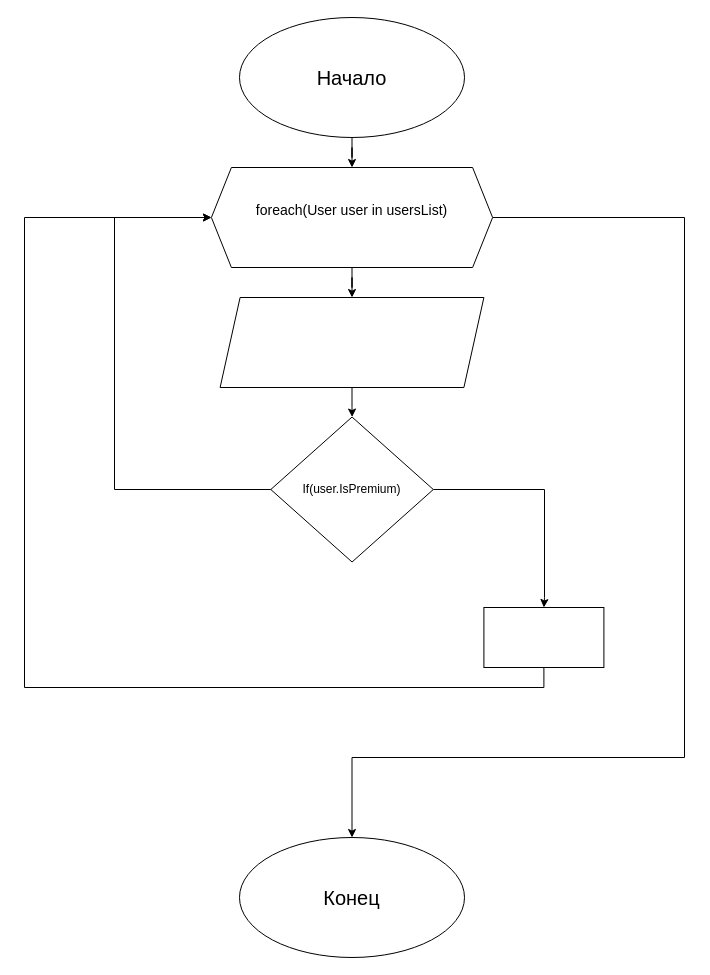
Image size: 710x975. Some labels were removed from this diagram. The centre of each missing label's shape, as x and y in pixels:
Consle.WriteLine($"Приветствуем, user.Name!");: pixel 351 342
ShowAds();: pixel 543 637
